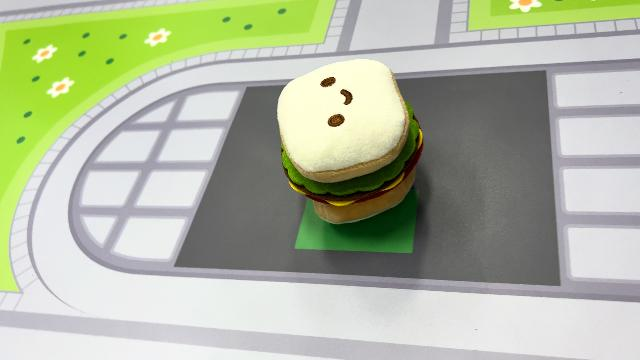sandwich: (274, 56, 426, 226)
